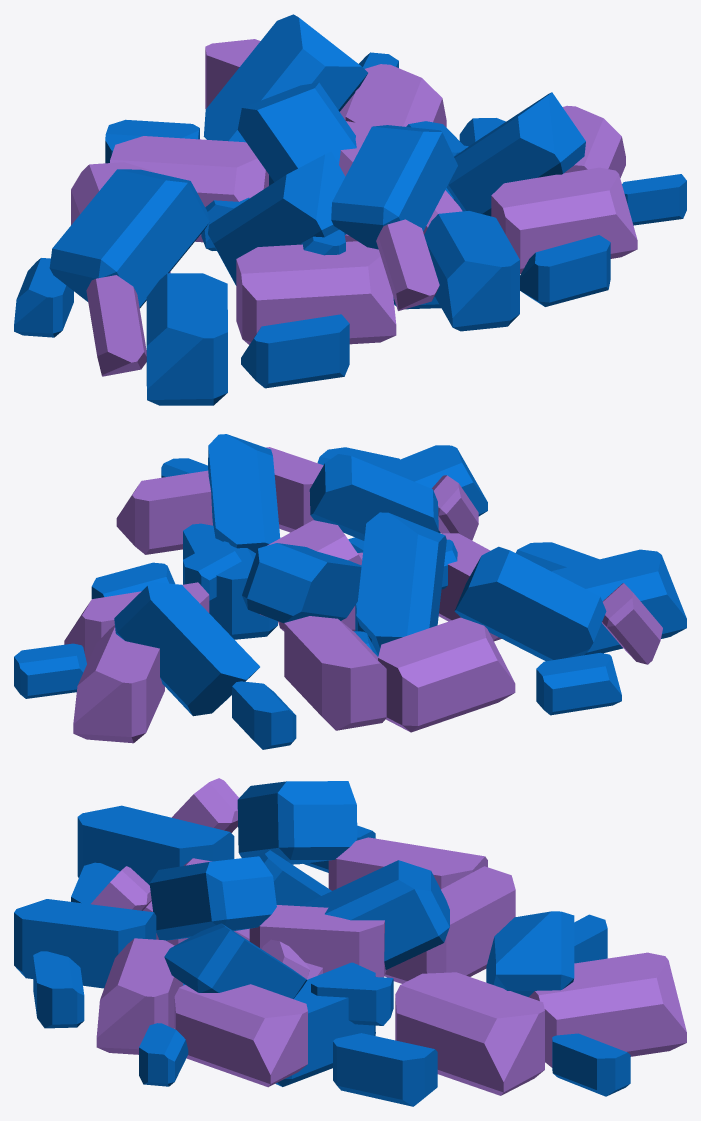
Rendered from Cheese - Grated.fbx.
The picture shows the model from 3 angles, top to bottom: view 1: azimuth 30°, elevation 25°; view 2: azimuth 150°, elevation 25°; view 3: azimuth 270°, elevation 25°; orthographic projection. The views are drawn at different scales.
Parts seen in each view (by area): view 1: Potato___Chopped__2_, Potato___Chopped__1_, Potato___Chopped; view 2: Potato___Chopped, Potato___Chopped__2_, Potato___Chopped__1_; view 3: Potato___Chopped, Potato___Chopped__1_, Potato___Chopped__2_.
Boxes of the visible parts, x1,y1,x2,y2 form: Potato___Chopped__2_: [14, 151, 441, 405]; Potato___Chopped__1_: [301, 92, 686, 331]; Potato___Chopped: [105, 14, 505, 242]; Potato___Chopped: [14, 523, 386, 749]; Potato___Chopped__2_: [278, 512, 686, 732]; Potato___Chopped__1_: [116, 434, 487, 616]; Potato___Chopped: [262, 860, 686, 1106]; Potato___Chopped__1_: [14, 856, 393, 1087]; Potato___Chopped__2_: [71, 778, 487, 985].
Size of the model in its own units: 31.26 by 8.33 by 31.43.
